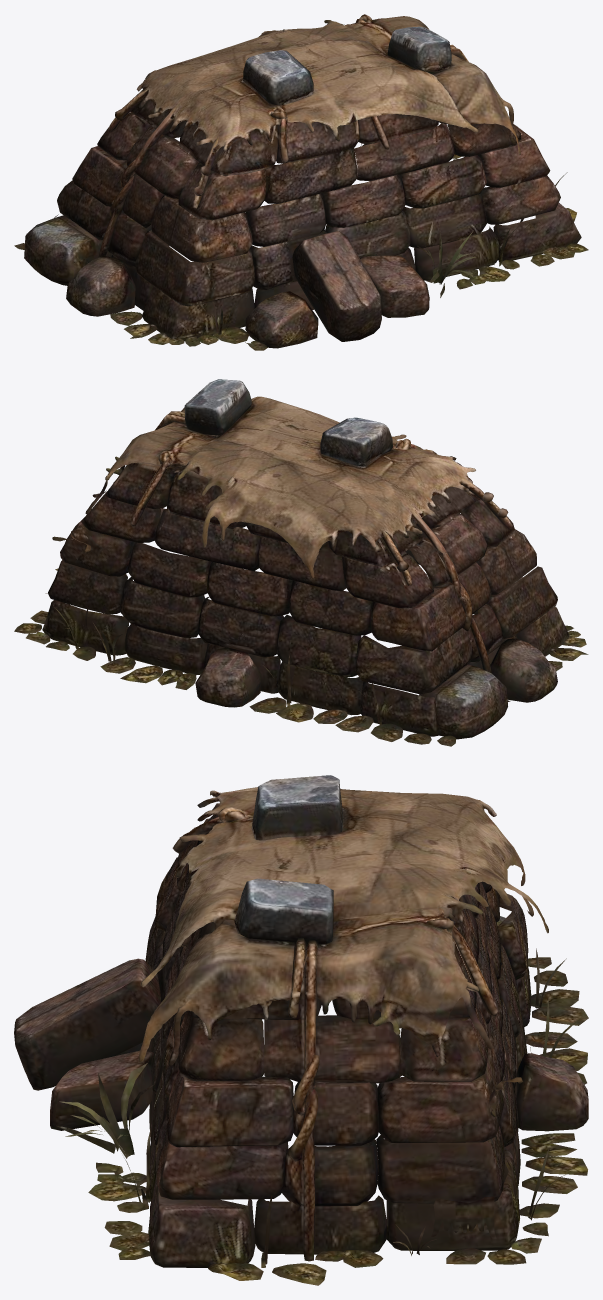
The model's file is act1-a21-3-peat-stack.glb.
The picture shows the model from 3 angles, top to bottom: view 1: azimuth 30°, elevation 25°; view 2: azimuth 150°, elevation 25°; view 3: azimuth 270°, elevation 25°; orthographic projection. The views are drawn at different scales.
Parts seen in each view (by area): view 1: act1-a21-3-peat-stack; view 2: act1-a21-3-peat-stack; view 3: act1-a21-3-peat-stack.
Boxes of the visible parts, x1,y1,x2,y2 form: act1-a21-3-peat-stack: [14, 14, 588, 350]; act1-a21-3-peat-stack: [14, 379, 588, 746]; act1-a21-3-peat-stack: [14, 775, 588, 1285].
Size of the model in its own units: 1.6 by 0.6626 by 1.14.
1 material, 1 textured.
